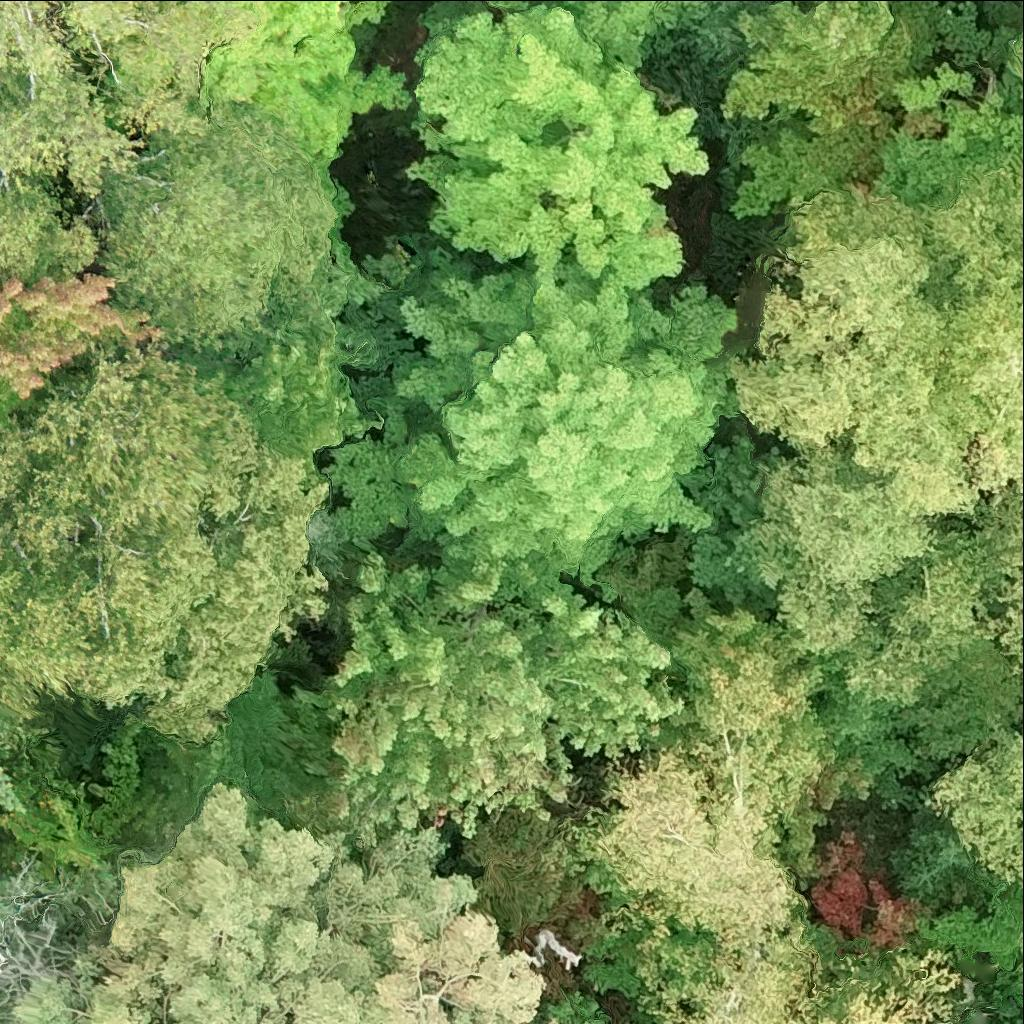crown: (0, 356, 333, 749), (19, 788, 539, 1023), (395, 273, 735, 618), (320, 552, 681, 847), (728, 169, 1023, 516), (410, 0, 707, 302), (744, 424, 1023, 707), (602, 648, 816, 947), (102, 120, 336, 352), (0, 0, 259, 201), (208, 0, 408, 164), (0, 269, 174, 438), (719, 0, 908, 135), (890, 638, 1023, 758), (930, 735, 1023, 891), (685, 937, 818, 1023), (812, 949, 960, 1023), (0, 171, 97, 279), (915, 876, 1023, 969), (0, 856, 66, 1006), (899, 817, 971, 897), (1004, 605, 1023, 666), (1011, 35, 1023, 98), (0, 766, 12, 813), (0, 277, 12, 290)
